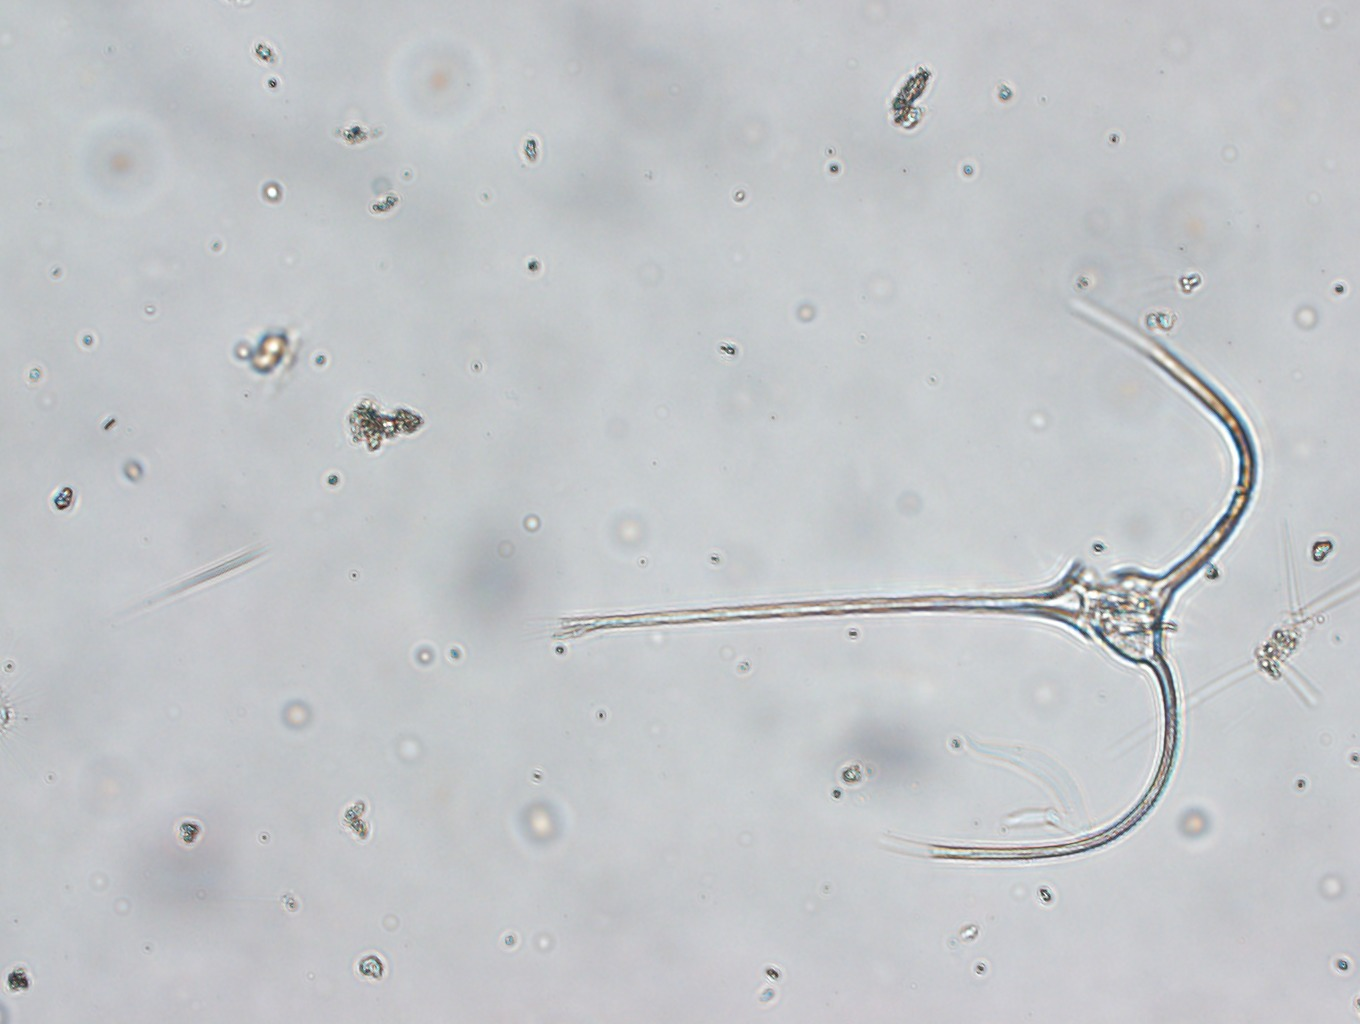ceratium trichoceros: (536, 265, 1273, 874)
